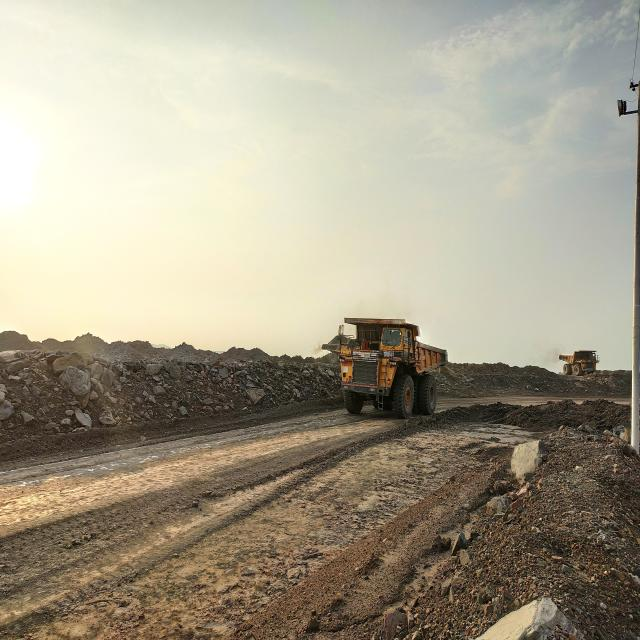dump_truck: (324, 317, 448, 418), (559, 350, 599, 375)
